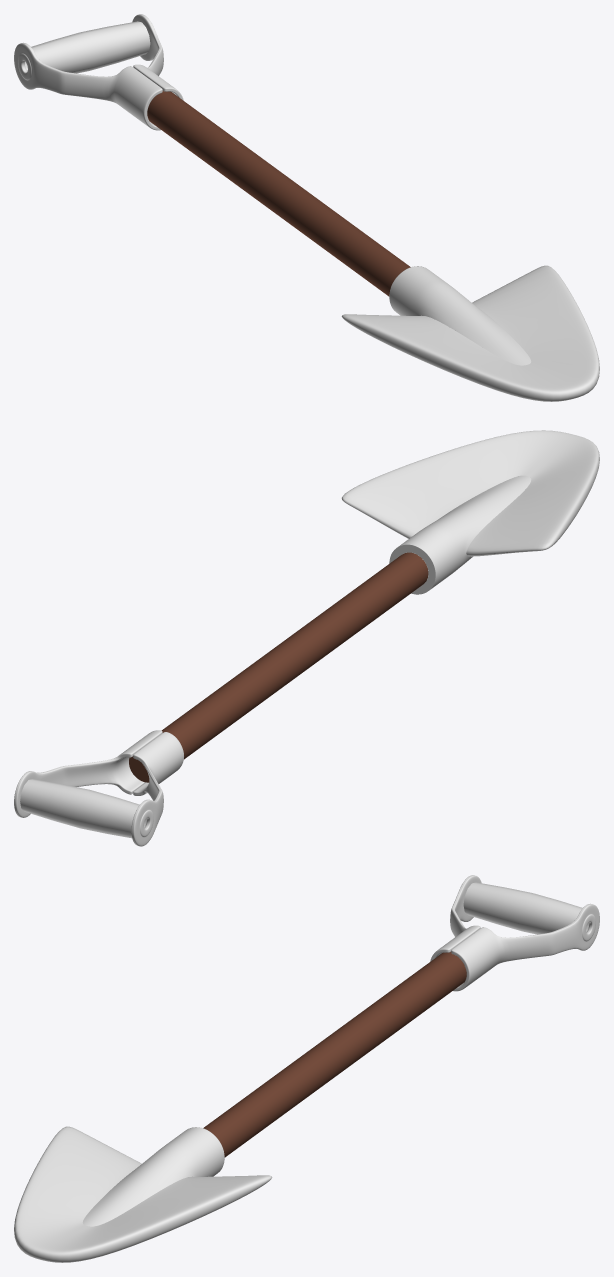
Rendered from shovel.fbx.
3 views of the same model, one above another, from view 1: azimuth 30°, elevation 25°; view 2: azimuth 150°, elevation 25°; view 3: azimuth 330°, elevation 25° (orthographic).
Visible parts, largest first — view 1: Circle; view 2: Circle; view 3: Circle.
Part boxes in pixels (x1=…): Circle: x1=14, y1=14, x2=599, y2=401; Circle: x1=14, y1=430, x2=599, y2=846; Circle: x1=14, y1=875, x2=599, y2=1262.
Size of the model in its own units: 548 by 132 by 2292.
